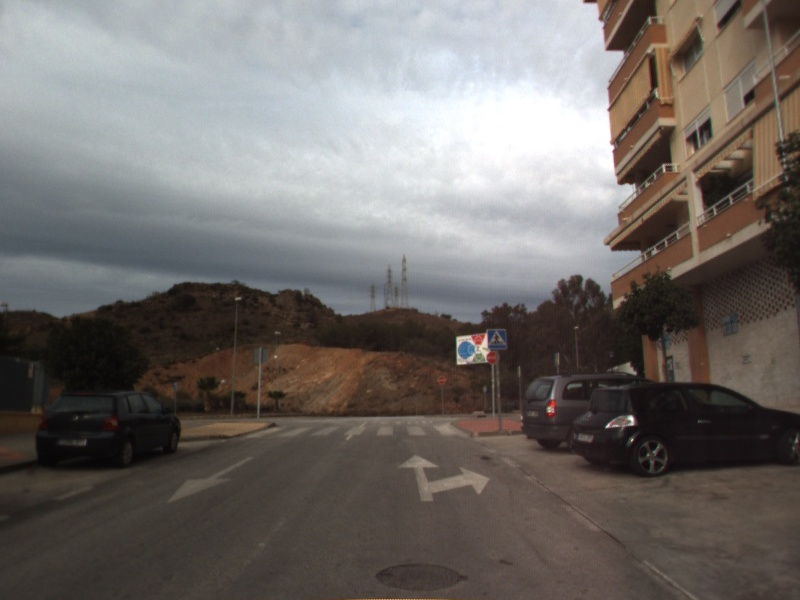STRAIGHT_RIGHT: (396, 452, 492, 503)
